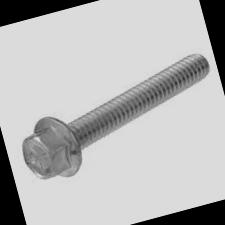screw: (18, 123, 75, 183)
